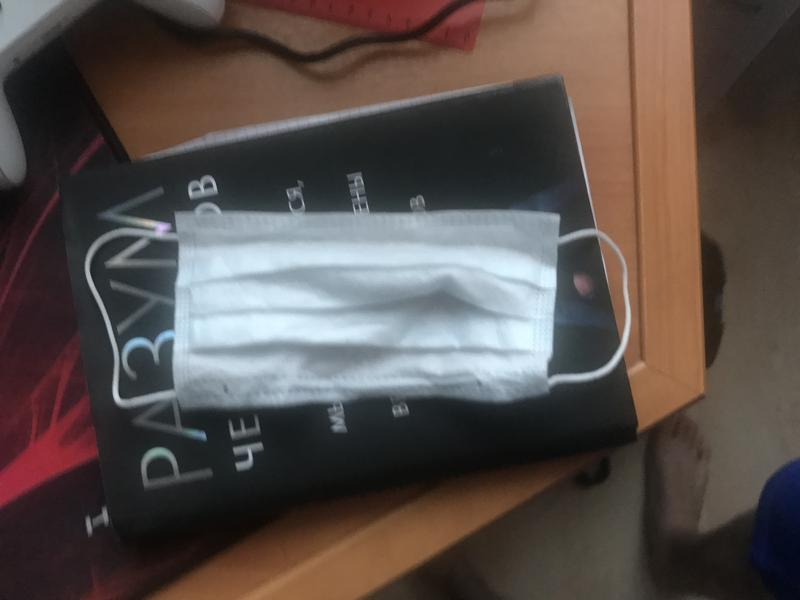medical_mask: (86, 217, 631, 406)
